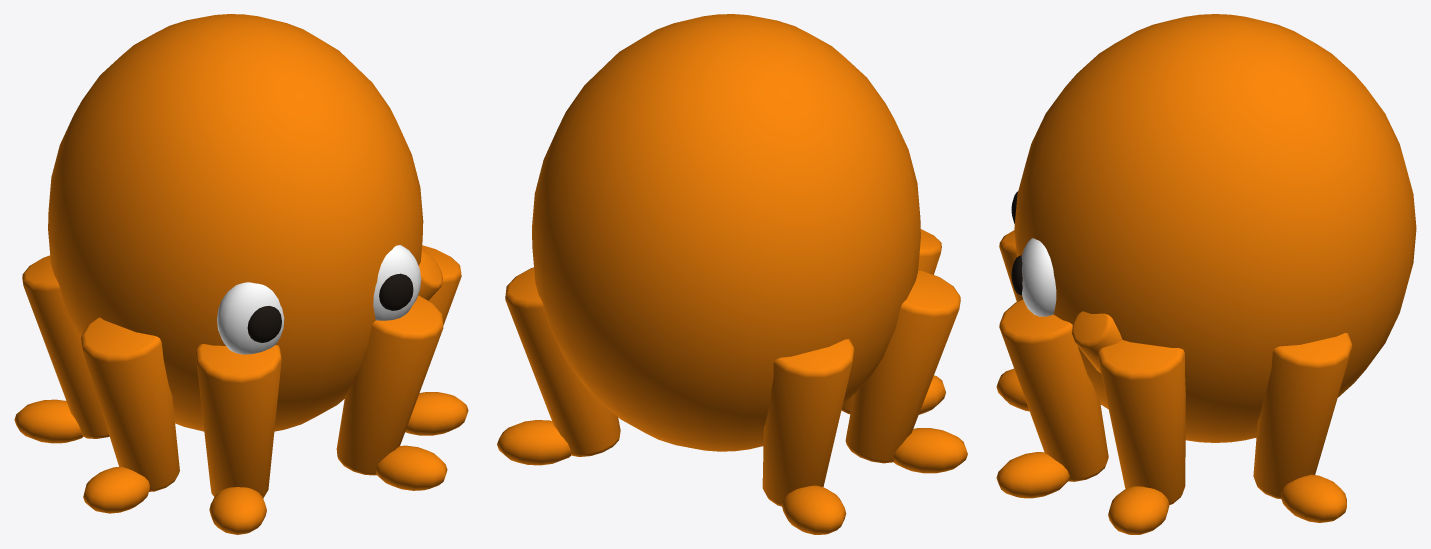
The model's file is hat_octopus.glb.
3 renders of one model, left to right at view 1: azimuth 30°, elevation 25°; view 2: azimuth 150°, elevation 25°; view 3: azimuth 270°, elevation 25°, orthographic. The views are drawn at different scales.
Parts seen in each view (by area): view 1: hat_octopus; view 2: hat_octopus; view 3: hat_octopus.
Boxes of the visible parts, bbox=[...] form: hat_octopus: bbox=[14, 14, 468, 534]; hat_octopus: bbox=[497, 14, 967, 534]; hat_octopus: bbox=[996, 14, 1416, 534].
Size of the model in its own units: 0.5755 by 0.5998 by 0.5415.
